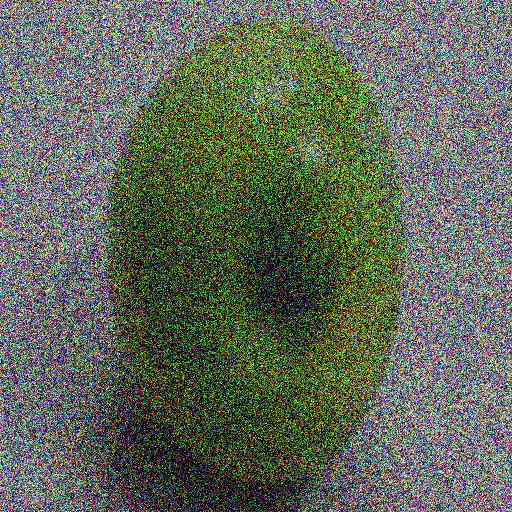fruit: (56, 165, 193, 512)
